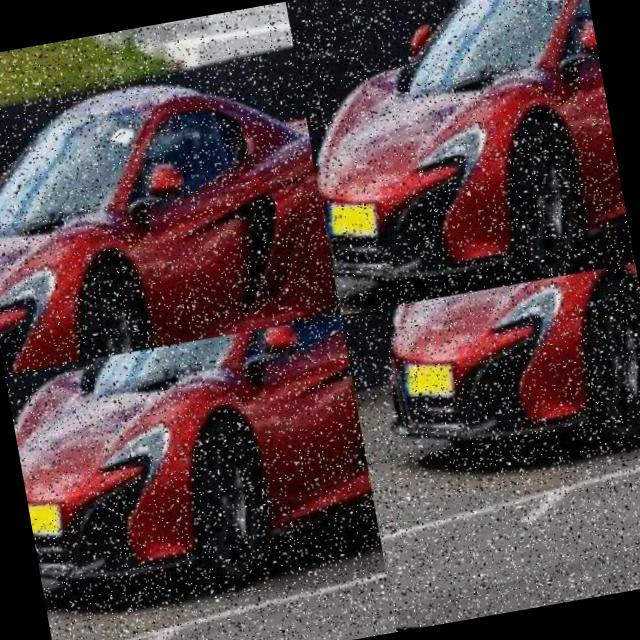LicensePlate: (129, 552, 218, 639), (403, 361, 453, 393)
